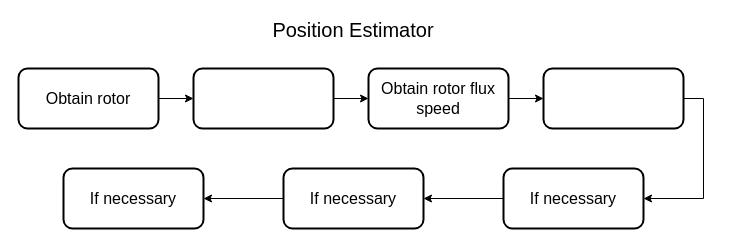
This 729x246 diagram has some shape labels left out. Here are the shapes that lost their labels. From the top down, the centre of each, then its label:
At pixel 263 98: "Obtain rotor speed".
At pixel 613 98: "Estimate rotor flux position".
